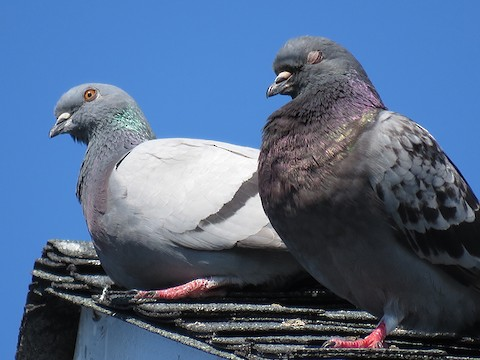pigeon: (50, 77, 426, 312), (255, 32, 478, 351)
